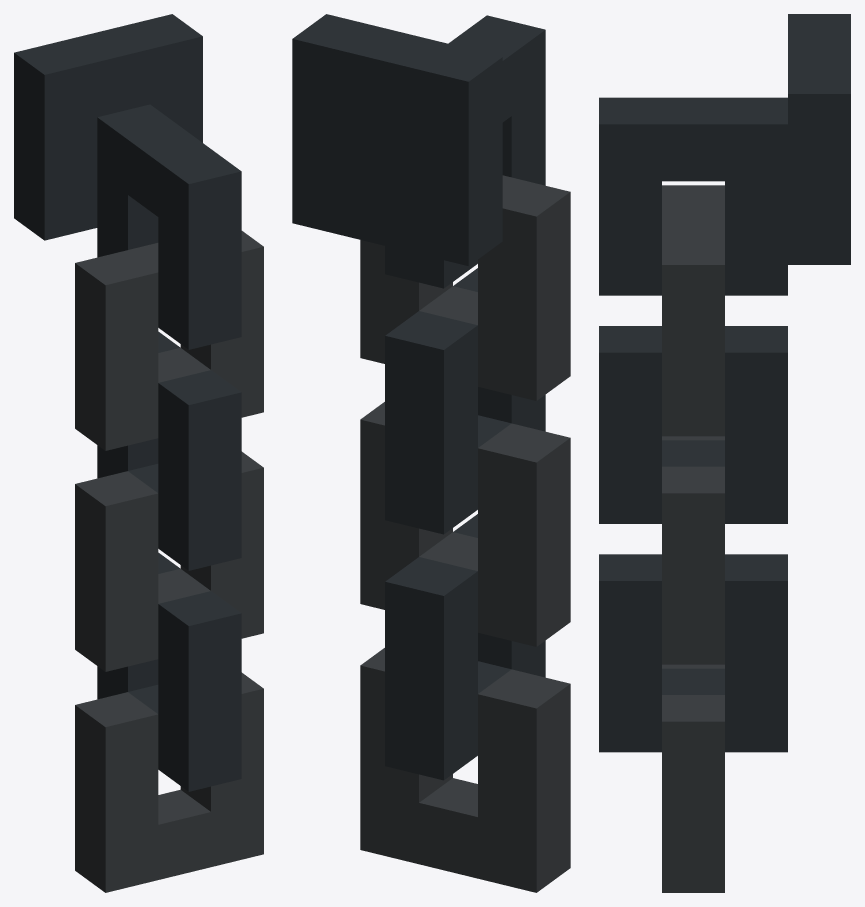
Rendered from chains.glb.
3 views of the same model, side by side, from view 1: azimuth 30°, elevation 25°; view 2: azimuth 150°, elevation 25°; view 3: azimuth 270°, elevation 25° (orthographic). The views are drawn at different scales.
Parts seen in each view (by area): view 1: Untitled; view 2: Untitled; view 3: Untitled.
Part boxes in pixels (box(x1,y1,x2,y2)): Untitled: box(14, 14, 263, 892); Untitled: box(292, 14, 570, 892); Untitled: box(599, 14, 850, 892).
Size of the model in its own units: 0.3 by 1.4 by 0.4.
Materials: 1 (1 with a texture image).
